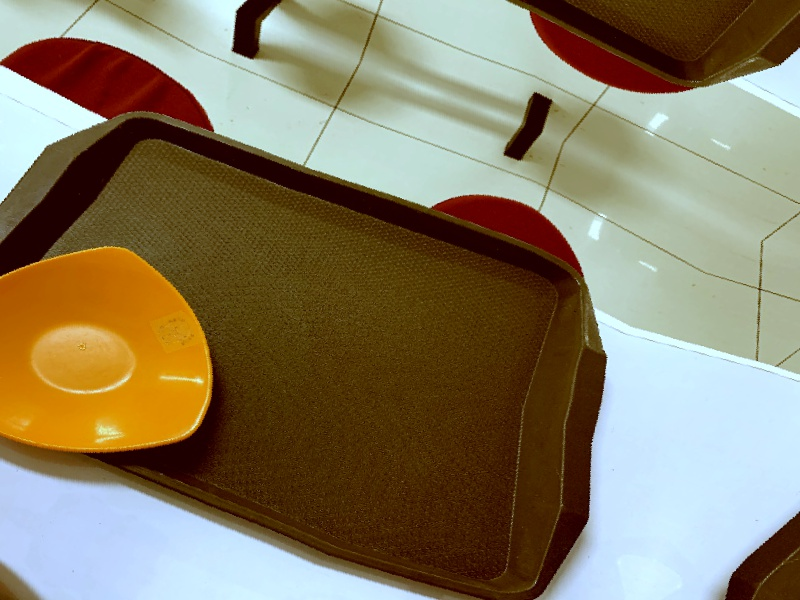dish11: (0, 199, 288, 513)
